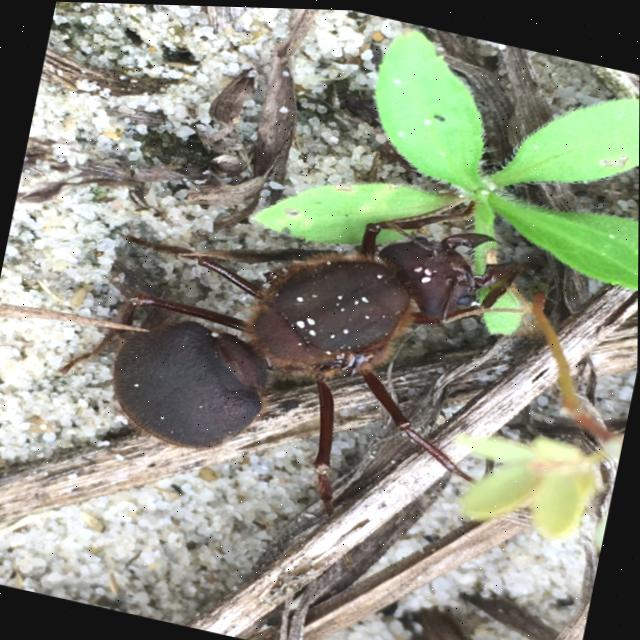Alive-Female-Dealate: (42, 117, 547, 549)
